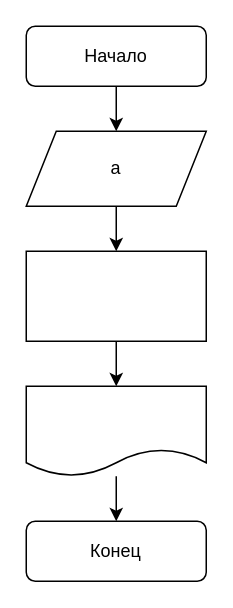
Some shapes in this 233 by 608 pixel diagram are drawn without their labels. The centre of each missing label's shape, as x and y in pixels:
boolean res= (a%2 !=0)&&(a>99&&a<1000): (115,295)
res: (115,430)
